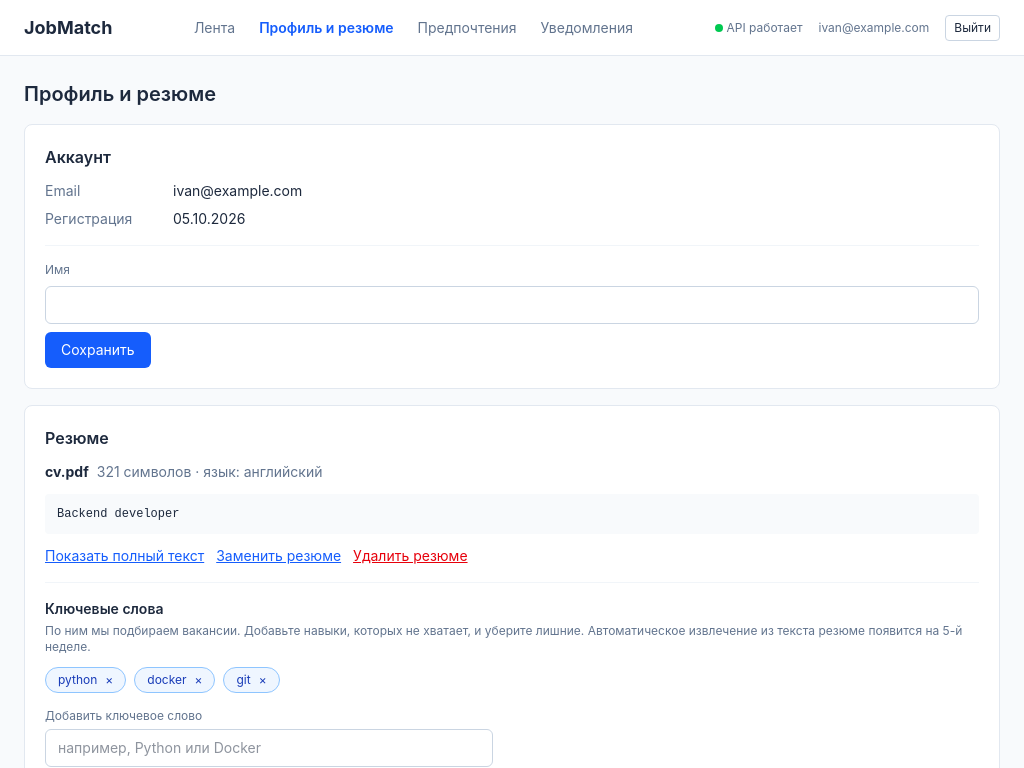
it: ключевые слова › удаление слова крестиком и Backspace, отмена изменений
expect the dropdown labelled "Добавить ключевое слово" is shown: met, box x1=45 y1=729 x2=493 y2=767
Click the button named "Удалить docker" at x=198, y=680, box x1=194 y1=674 x2=202 y2=686
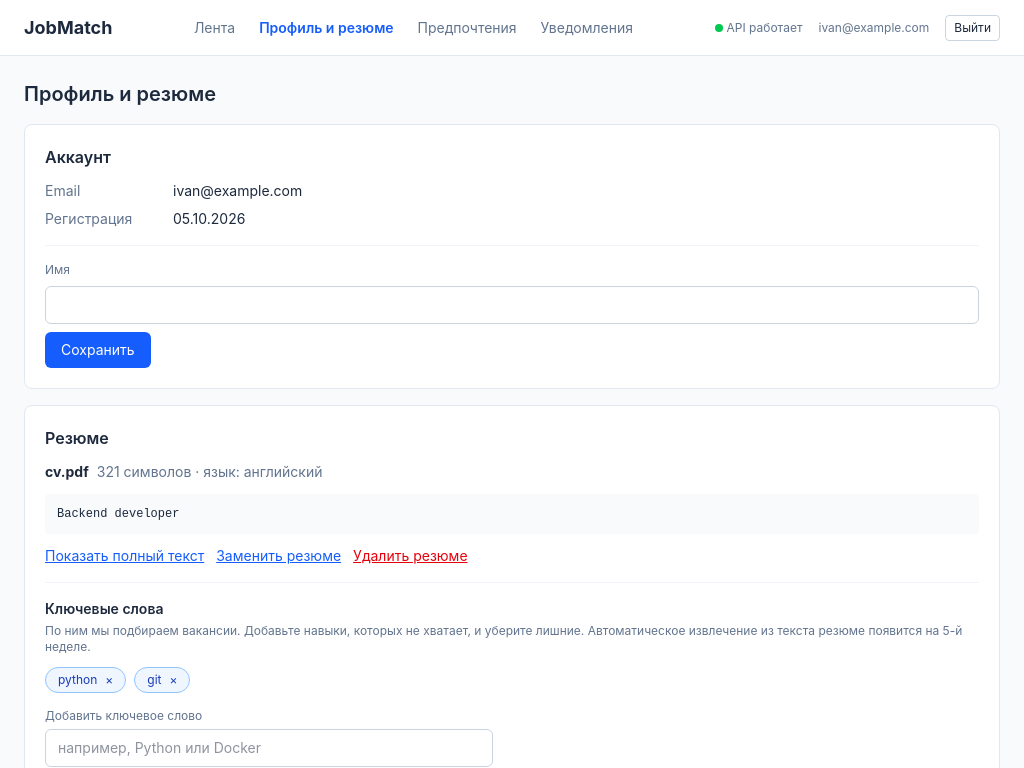
Press Backspace in the dropdown labelled "Добавить ключевое слово", box x1=45 y1=729 x2=493 y2=767
(page scrolled)
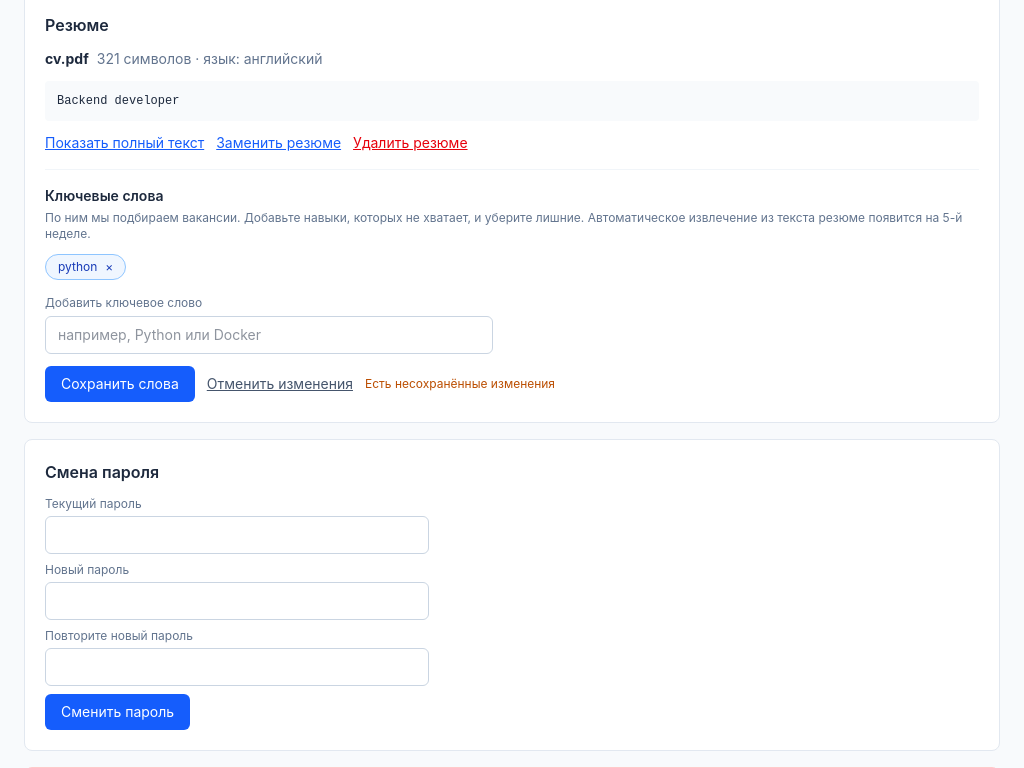
expect the text "Есть несохранённые изменения" is shown: met, box x1=365 y1=376 x2=555 y2=392
Click the button "Отменить изменения" at x=280, y=384, box x1=207 y1=374 x2=353 y2=394
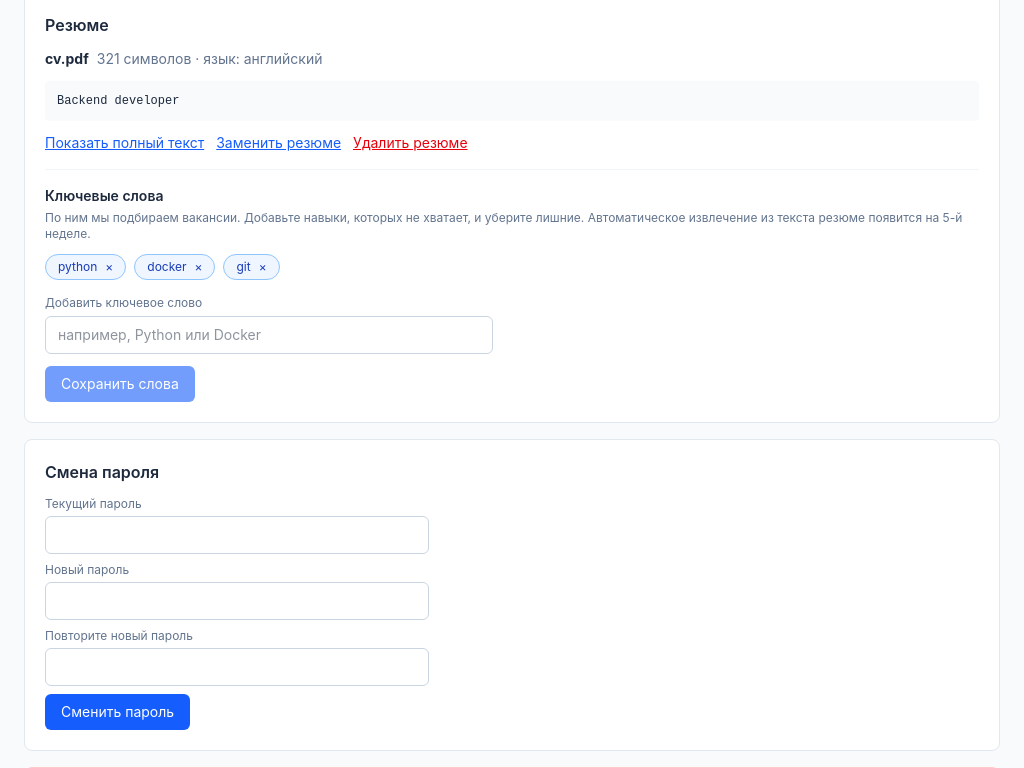
expect the text "Есть несохранённые изменения" is gone: met
